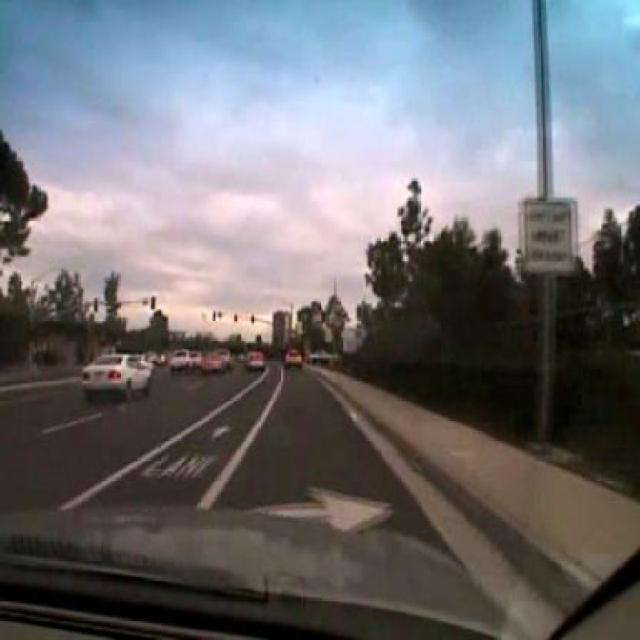rightLaneMustTurn: (520, 195, 578, 277)
